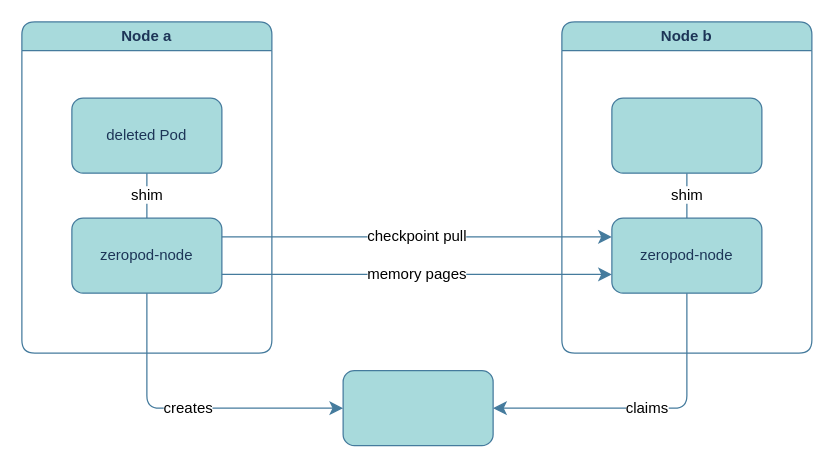
This 834x468 diagram has some shape labels left out. Each missing label, with the centre of its shape:
fresh Pod: the point at 686,135
Migration CR: the point at 417,407
